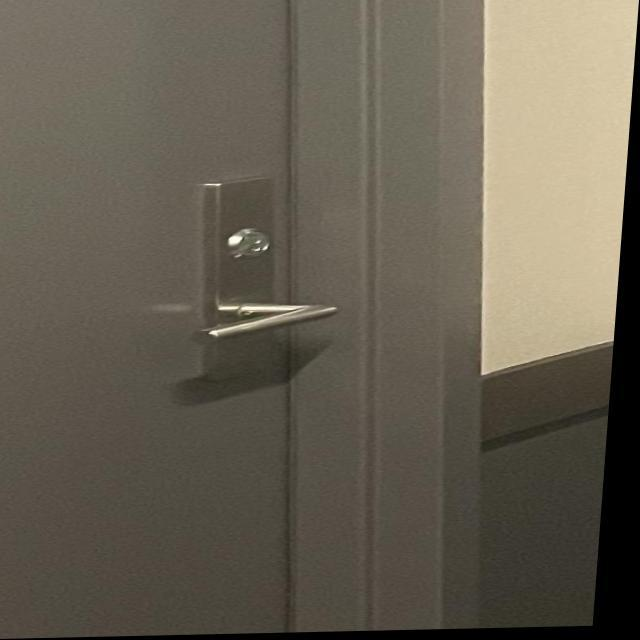door_handle: (188, 290, 374, 361)
